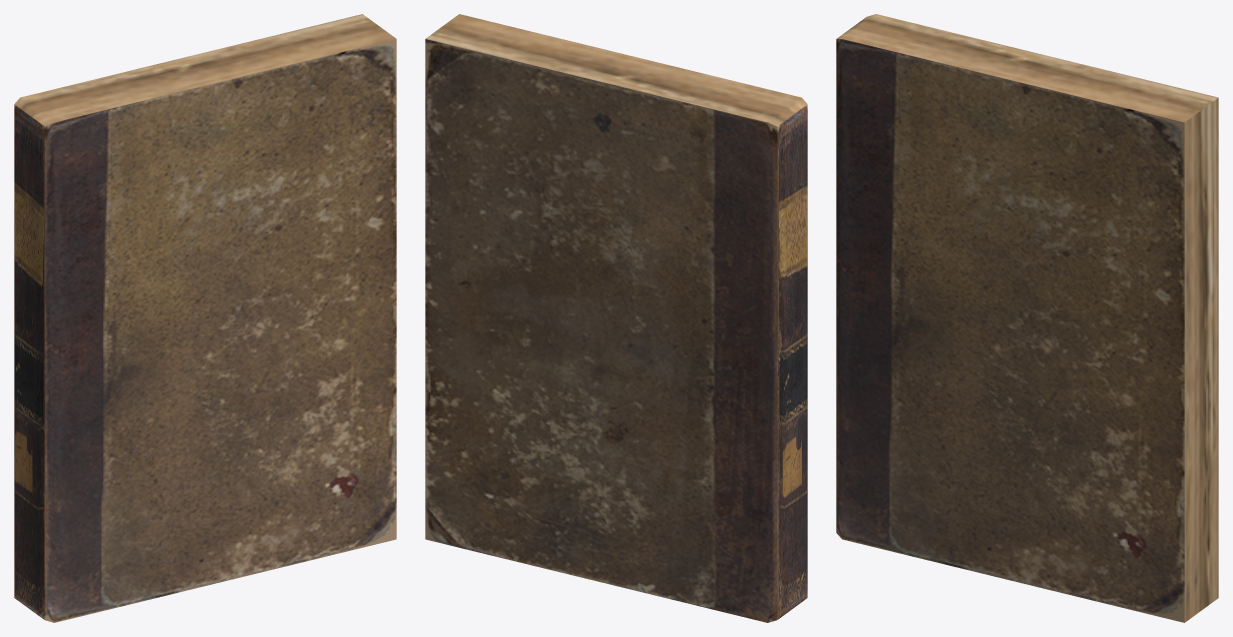
File: SM_Book_04.fbx
The picture shows the model from 3 angles, left to right: view 1: azimuth 30°, elevation 25°; view 2: azimuth 150°, elevation 25°; view 3: azimuth 330°, elevation 25°; orthographic projection.
Visible parts, largest first — view 1: SM_Book_04; view 2: SM_Book_04; view 3: SM_Book_04.
Part boxes in pixels (x1,y1,x2,y2): SM_Book_04: (14, 14, 396, 622); SM_Book_04: (425, 14, 807, 622); SM_Book_04: (836, 14, 1218, 622).
Size of the model in its own units: 16.15 by 21.85 by 2.7.
1 material, 1 textured.
